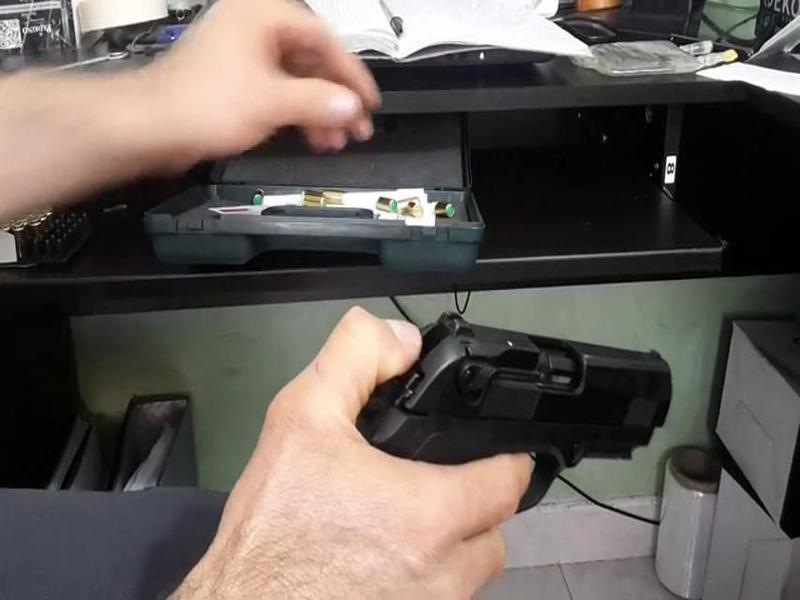Pistola: (355, 279, 693, 537)
